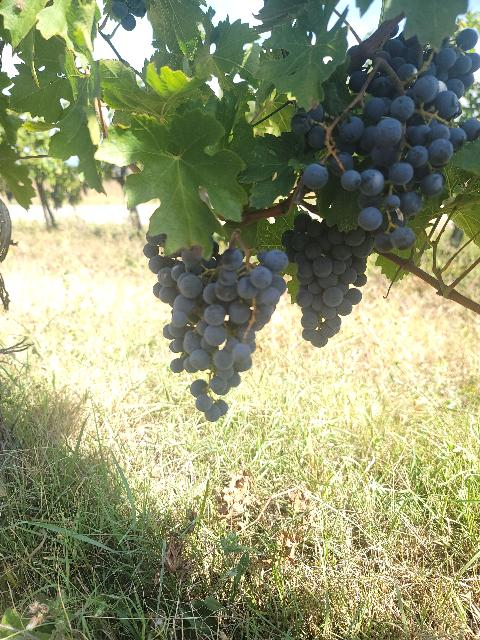grapes: (144, 235, 289, 421), (340, 75, 480, 252), (281, 212, 375, 348)
